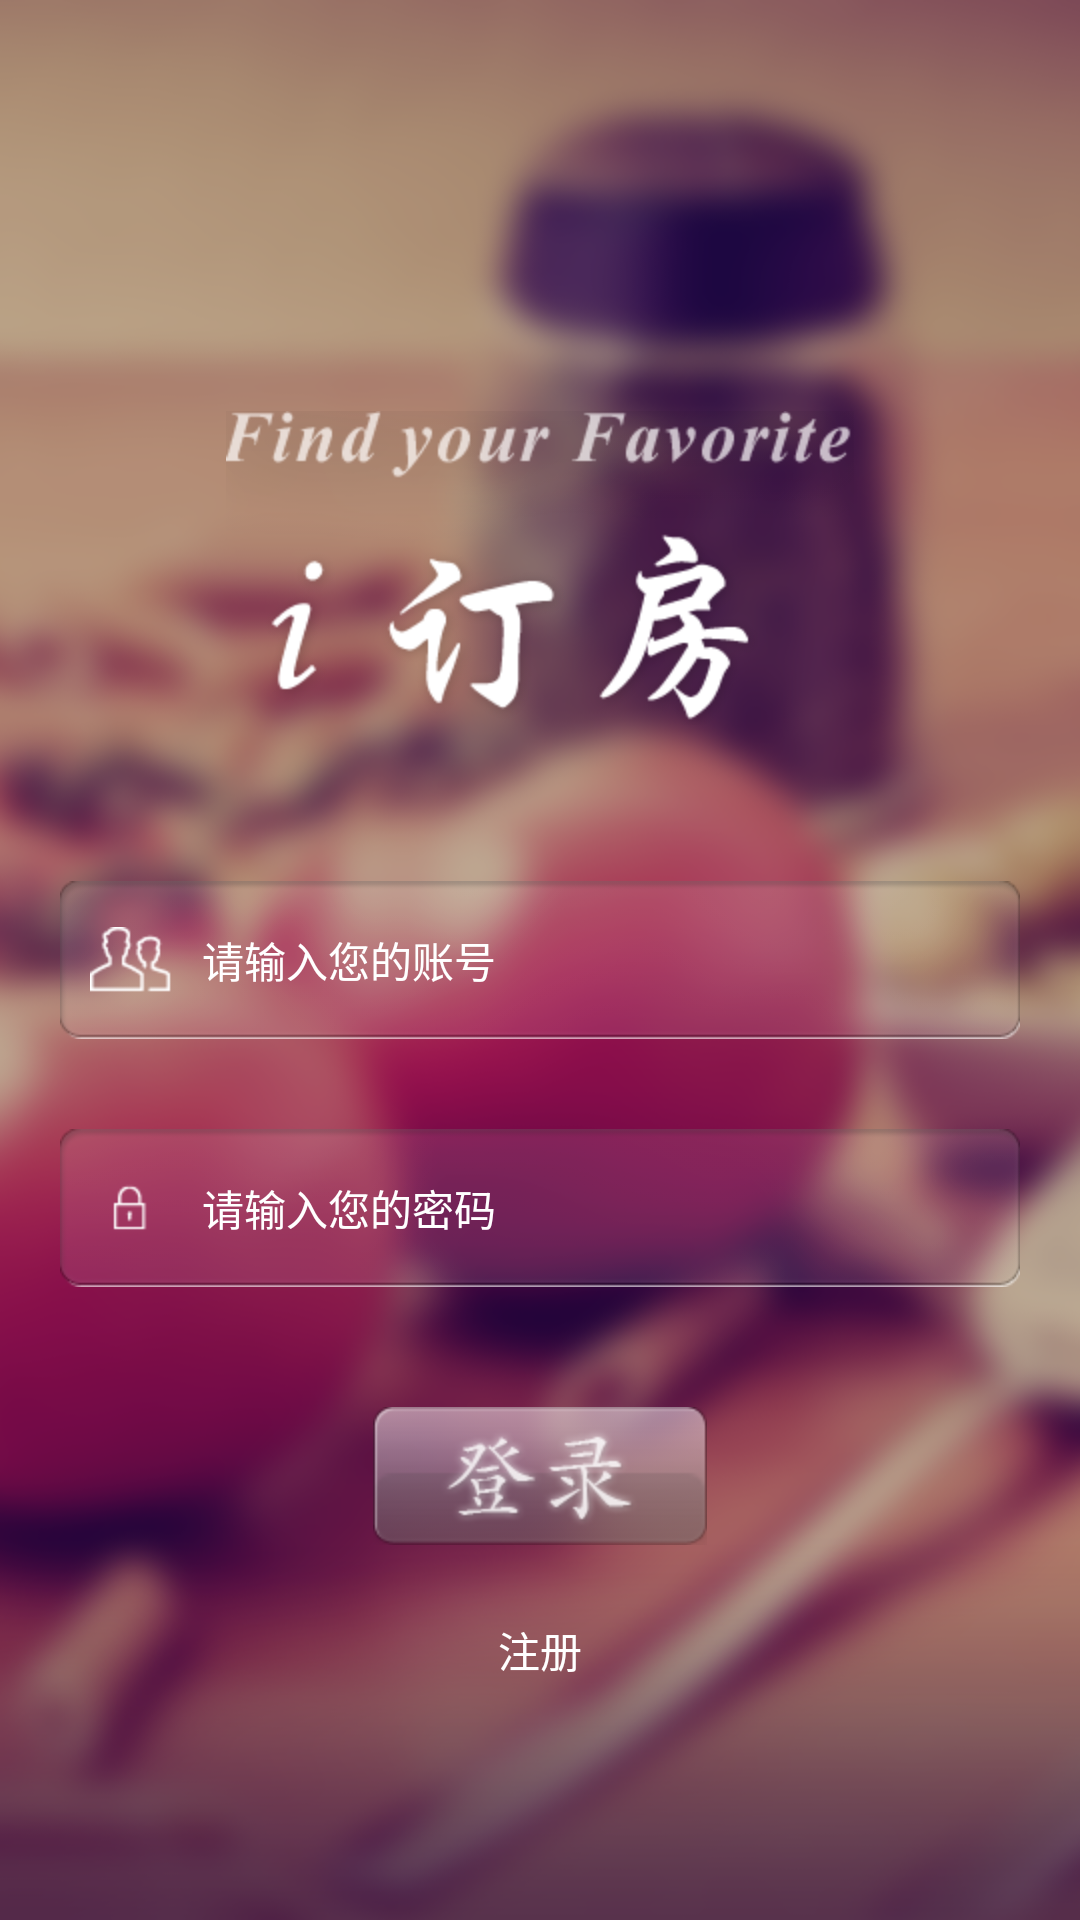

Screen size 1080×1920. Icon name, then its center in pixels as (x,y):
loginname: (116,960)
